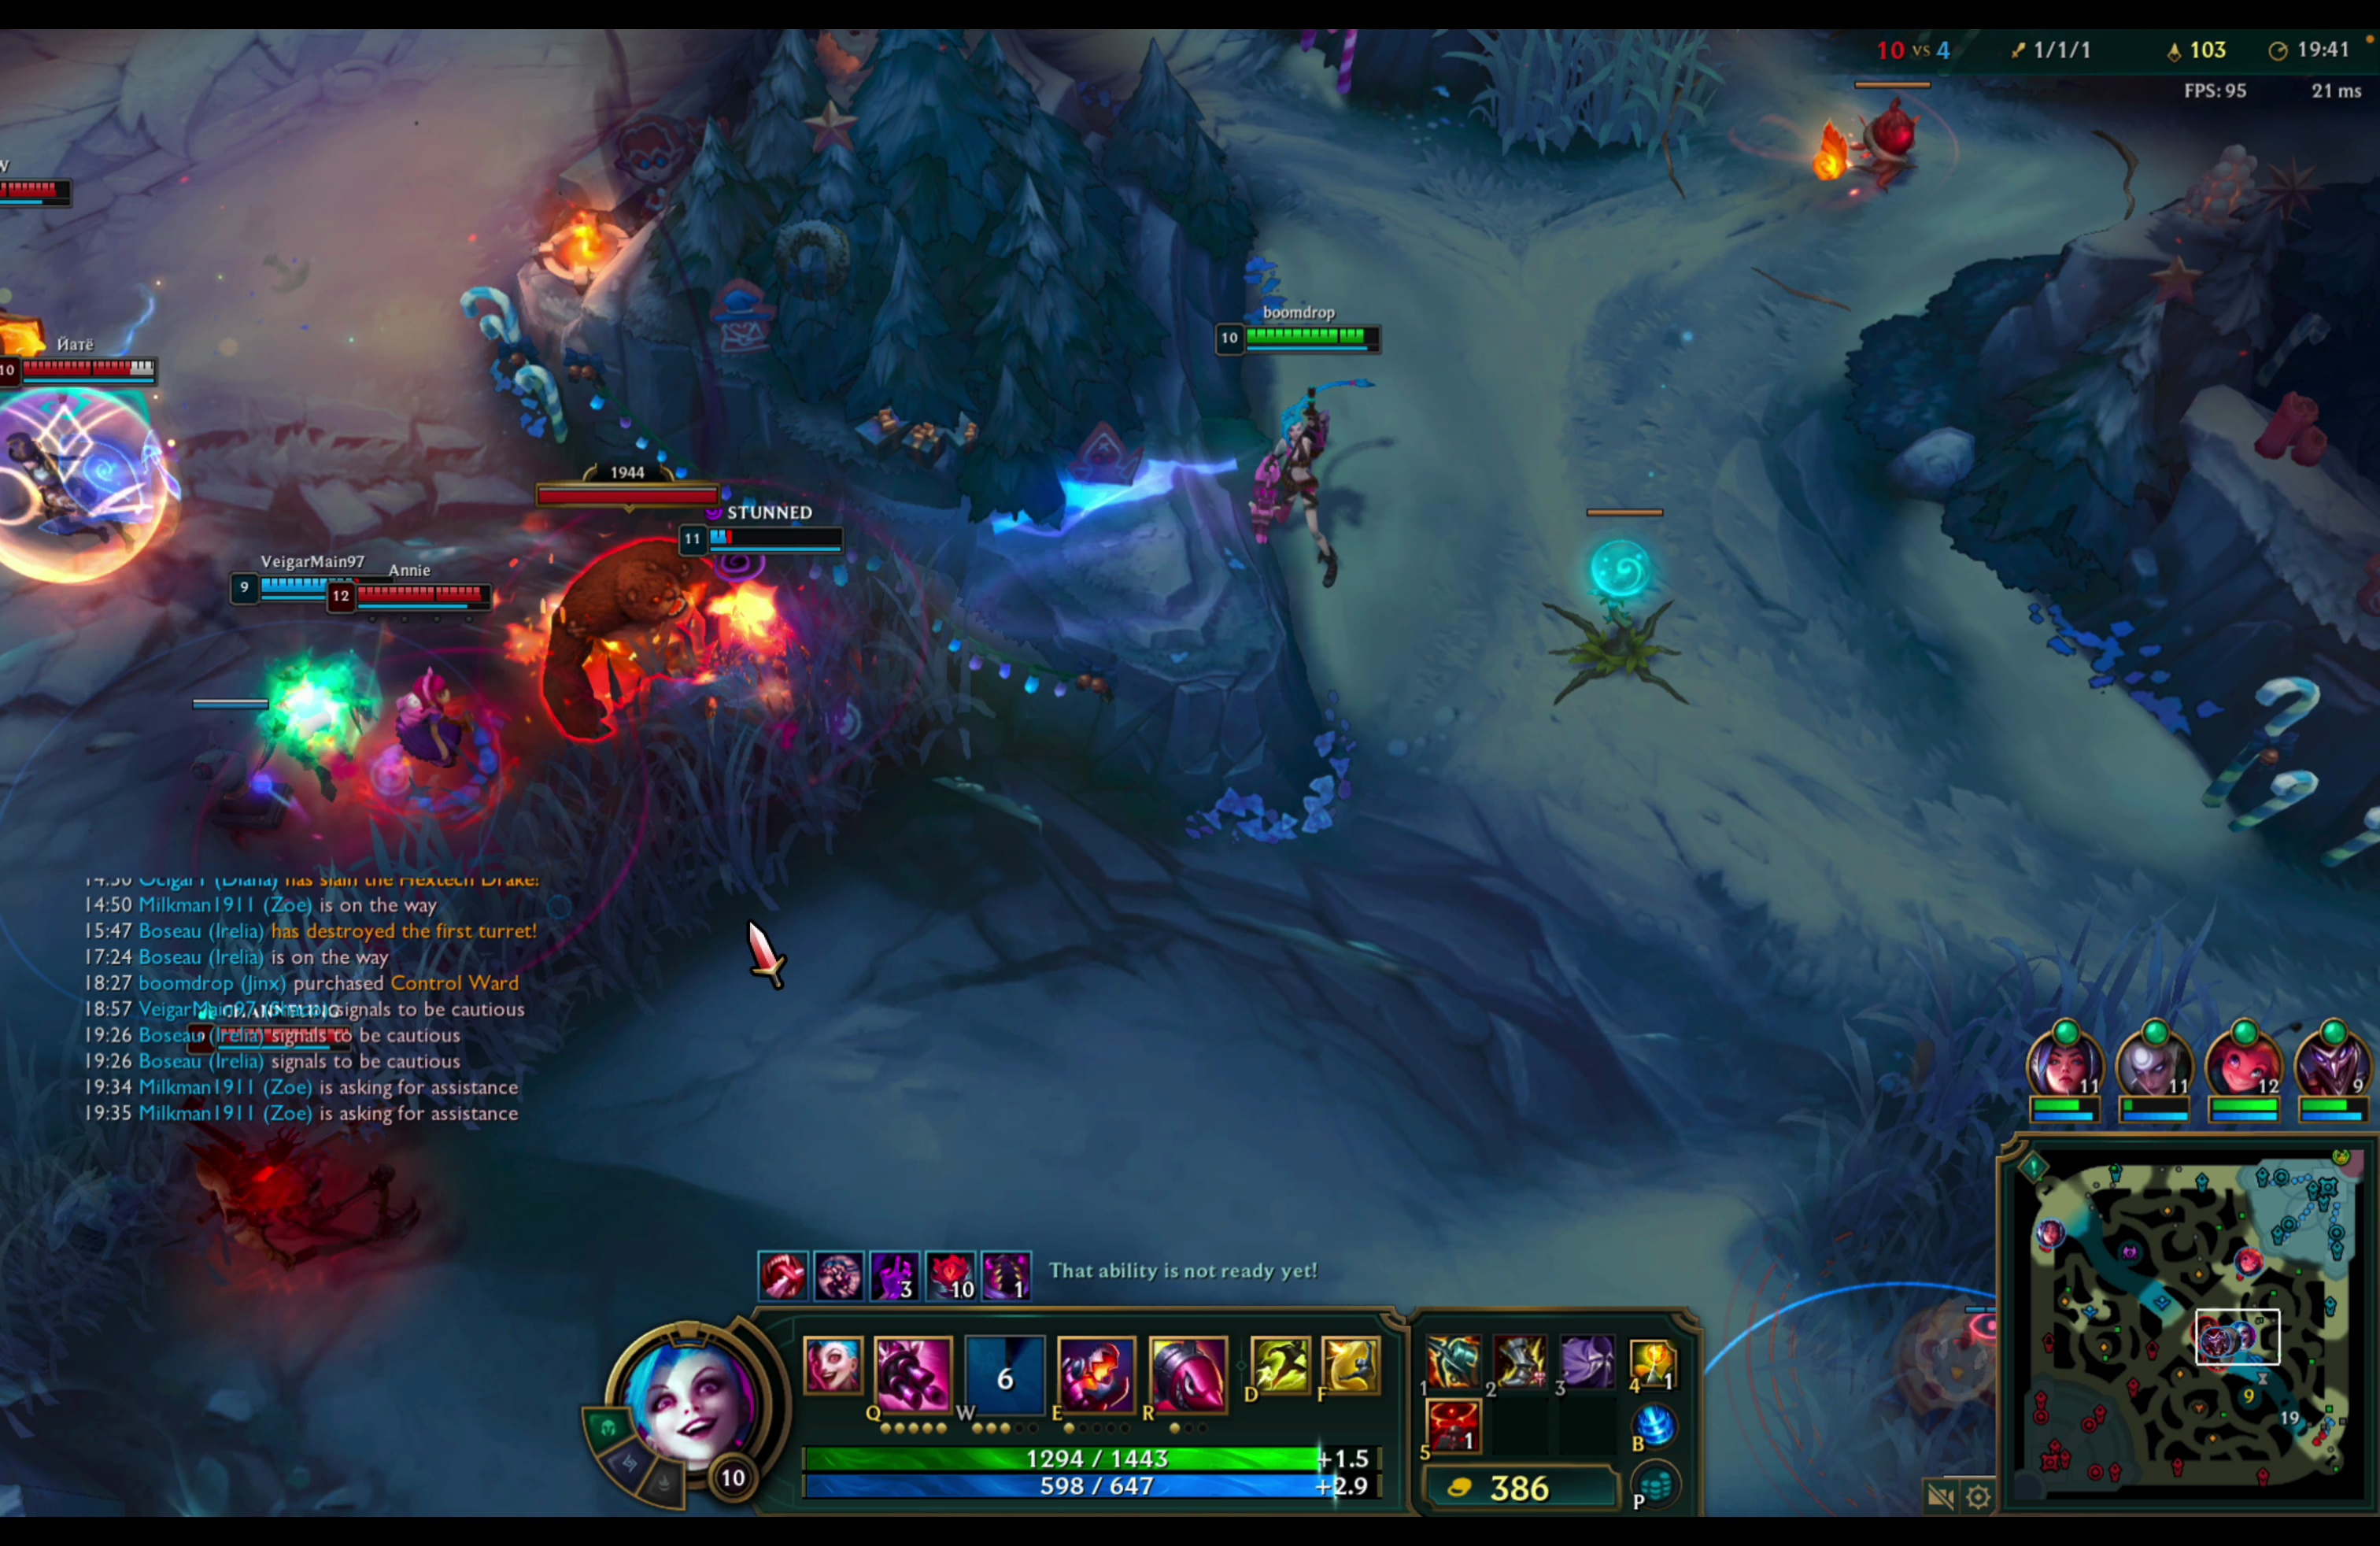JINX_W_PROJECTILE: (947, 295, 1466, 609)
